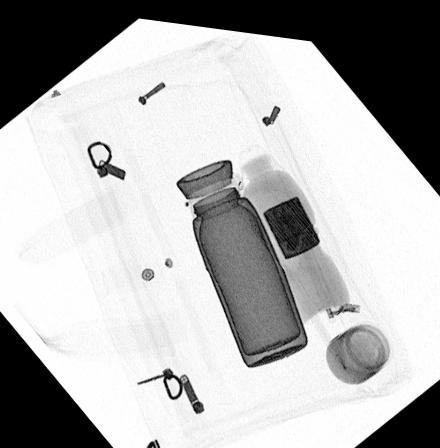Lighter: (262, 187, 319, 251)
